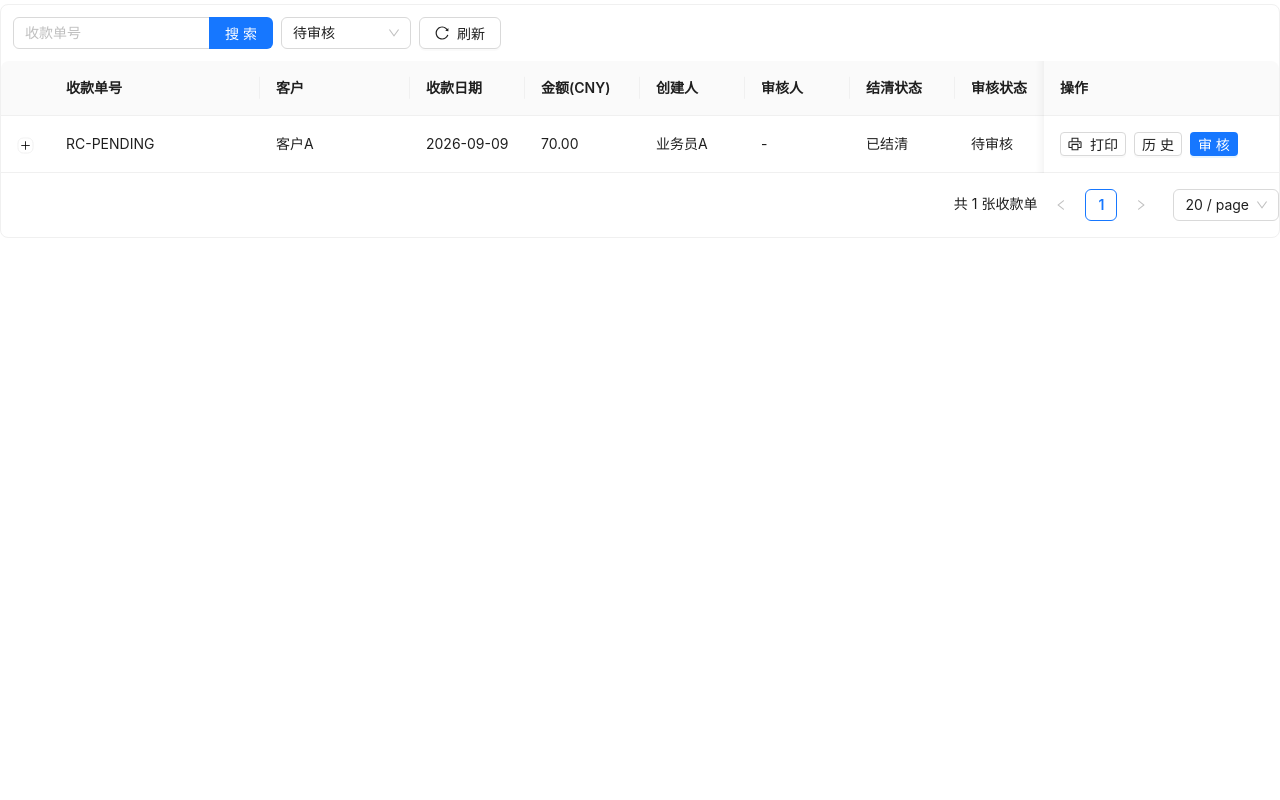
Test: expanded detail errors can be retried and a receipt already reviewed elsewhere cannot be approved
The image size is (1280, 800).
Expected: the text "RC-PENDING" is shown, [50, 116, 260, 173]
Click the button named "Expand row".
click(26, 145)  # box [18, 137, 34, 153]
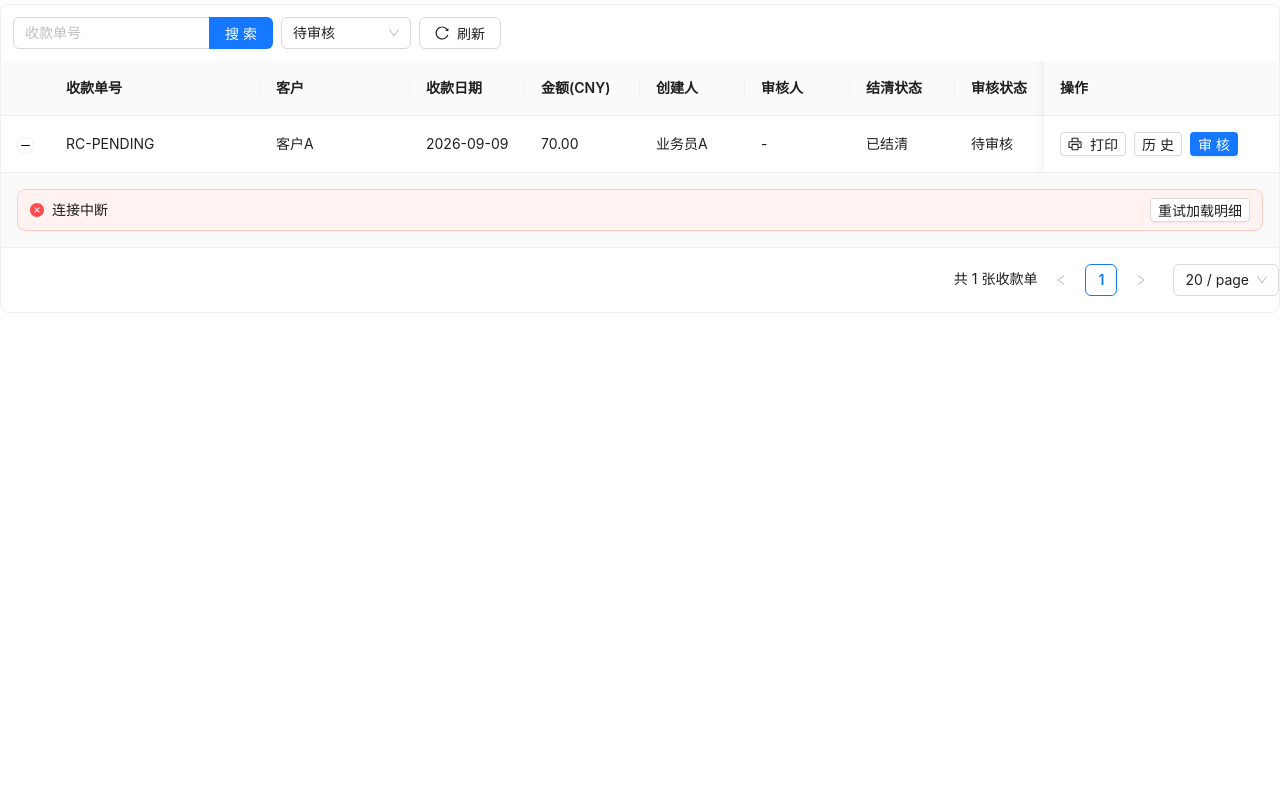
Expected: the text "连接中断" is shown, [52, 201, 108, 218]
Click the button "重试加载明细".
click(1200, 210)  # box [1150, 198, 1250, 222]
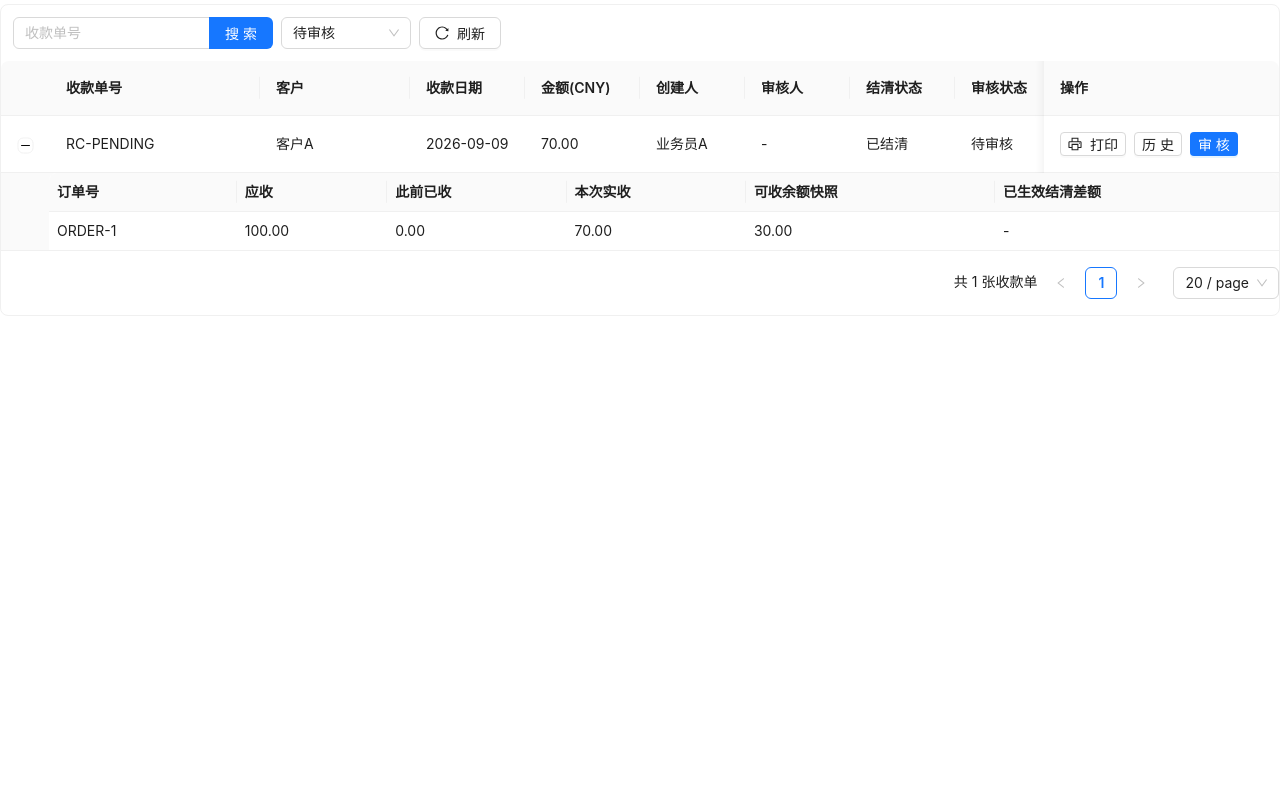
Expected: the text "ORDER-1" is shown, [49, 212, 237, 250]
Click the button "审 核".
click(1214, 144)  # box [1190, 132, 1238, 156]
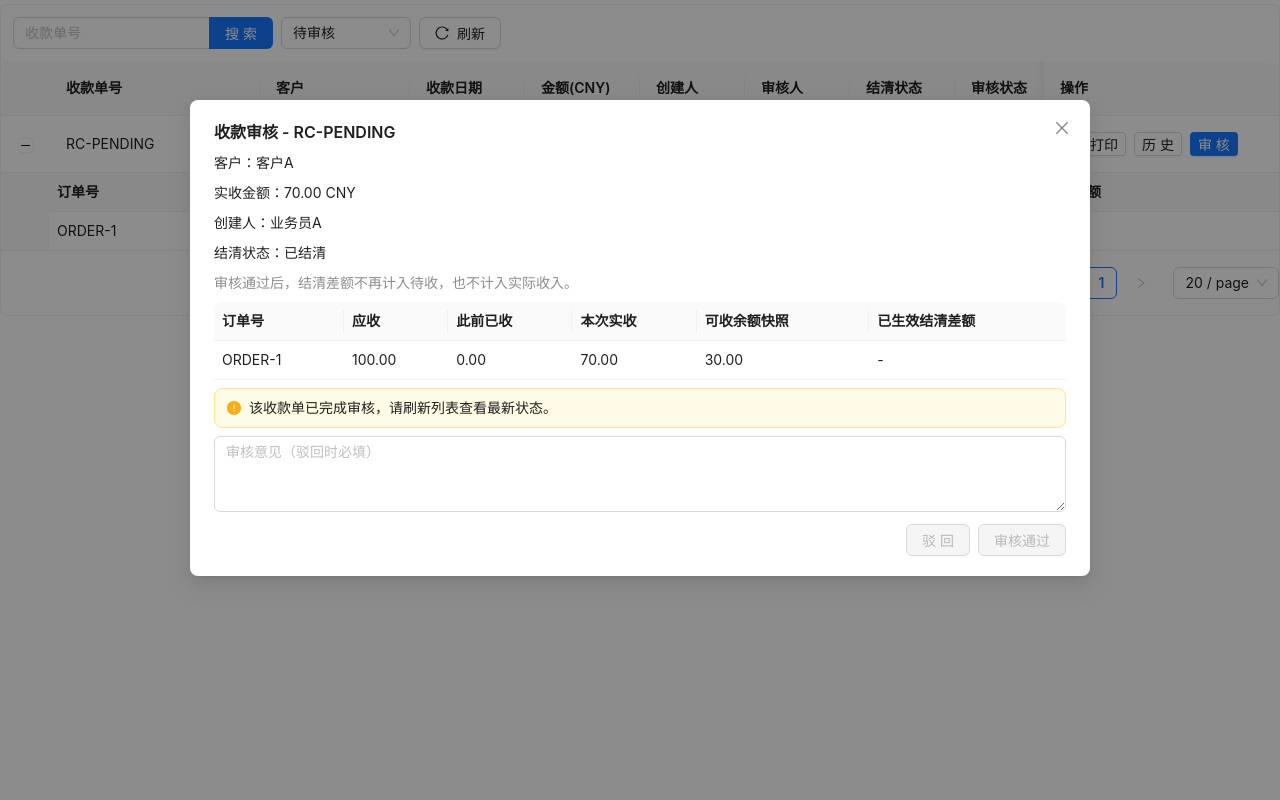
Expected: the text "该收款单已完成审核，请刷新列表查看最新状态。" is shown, [249, 399, 557, 416]
Expected: the button "审核通过" is disabled, [978, 524, 1066, 556]
